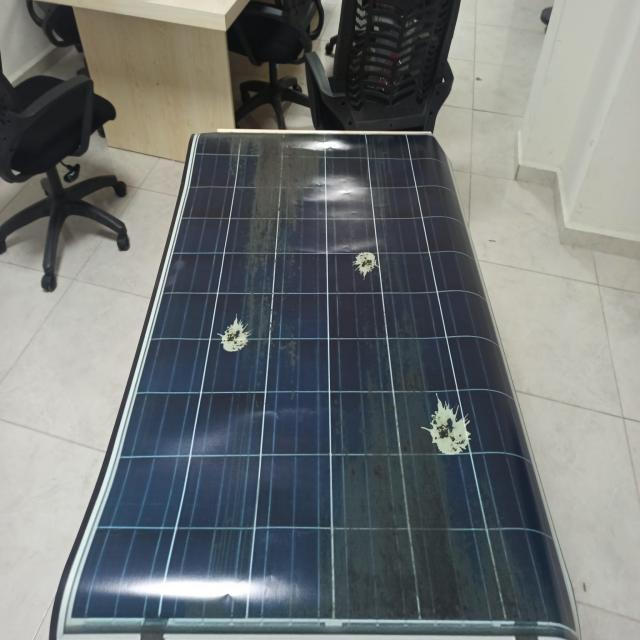faulty: (50, 133, 581, 640)
